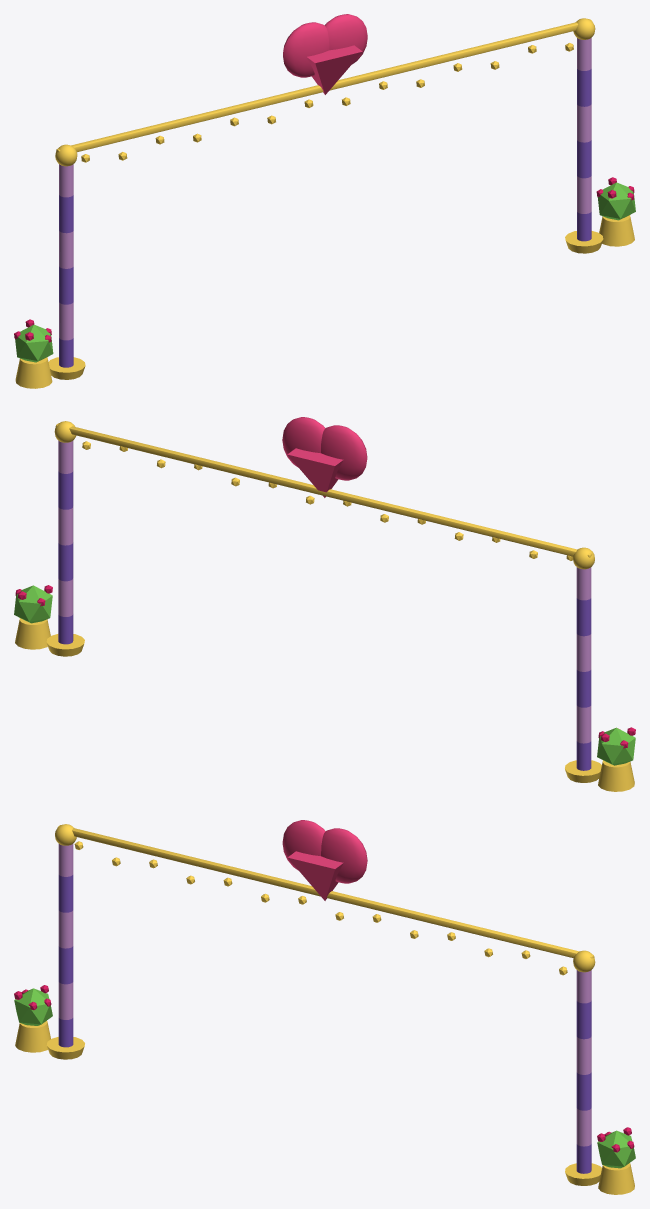
The model's file is journey_gate_avigail.glb.
3 renders of one model, top to bottom at view 1: azimuth 30°, elevation 25°; view 2: azimuth 150°, elevation 25°; view 3: azimuth 330°, elevation 25°, orthographic.
Parts seen in each view (by area): view 1: Gate_body.003; view 2: Gate_body.003; view 3: Gate_body.003.
Boxes of the visible parts, x1=… form: Gate_body.003: x1=14, y1=14, x2=635, y2=388; Gate_body.003: x1=14, y1=417, x2=635, y2=791; Gate_body.003: x1=14, y1=820, x2=635, y2=1194.
Size of the model in its own units: 22.87 by 10.3 by 1.77.
